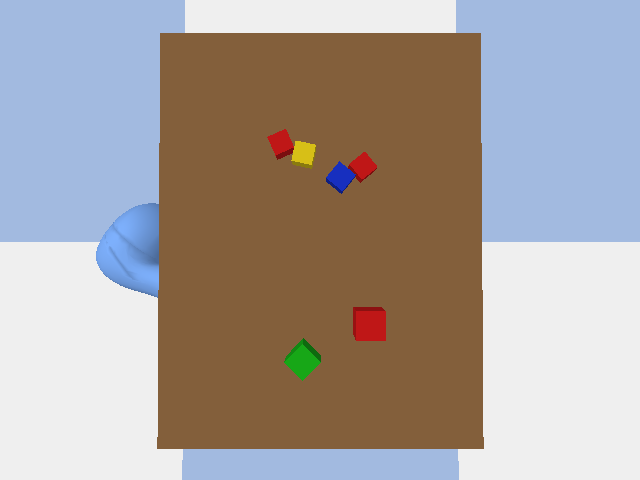blue_obj: (326, 161, 355, 193)
green_obj: (284, 338, 320, 380)
red_obj: (353, 307, 385, 340), (348, 152, 376, 182), (267, 129, 293, 159)
yellow_obj: (291, 141, 315, 168)
